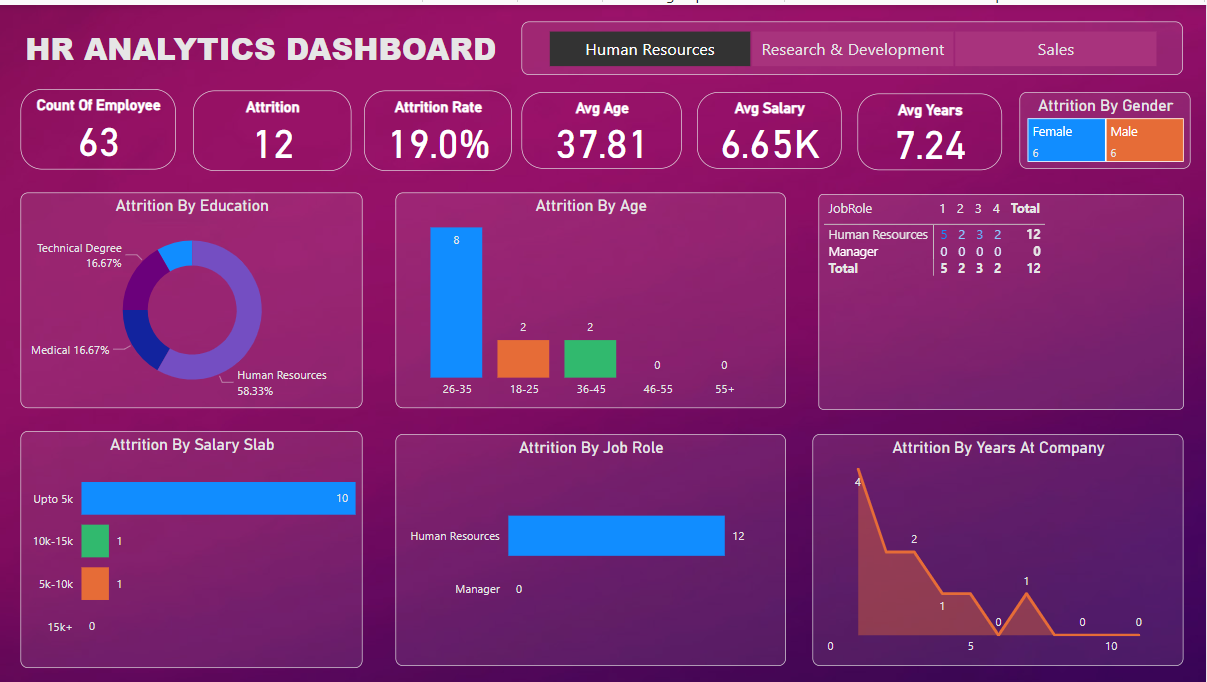

What the dashboard file says about the page in this screenshot:
{"tool":"powerbi","page":{"name":"Page 1","canvas":[1280,720],"ordinal":0},"visuals":[{"type":"card","title":"Count Of Employee","fields":{"Values":["CountNonNull(HR_Analytics.EmpID)"]},"box":[24.6,88.8,164.4,85],"z":0},{"type":"card","title":"Attrition Rate","fields":{"Values":["HR_Analytics.AttritionRate"]},"box":[387.4,90.7,156.9,85],"z":1000},{"type":"card","title":"Avg Age","fields":{"Values":["Avg(HR_Analytics.Age)"]},"box":[555.6,92.6,170.1,81.3],"z":2000},{"type":"card","title":"Attrition","fields":{"Values":["Sum(HR_Analytics.Attrition Count)"]},"box":[206,90.7,168.2,85],"z":3000},{"type":"card","title":"Avg Salary","fields":{"Values":["Avg(HR_Analytics.MonthlyIncome)"]},"box":[740.8,92.6,153.1,81.3],"z":4000},{"type":"card","title":"Avg Years","fields":{"Values":["Avg(HR_Analytics.YearsAtCompany)"]},"box":[910.9,94.5,153.1,81.3],"z":5000},{"type":"donutChart","title":"Attrition By Education","fields":{"Y":["Sum(HR_Analytics.Attrition Count)"],"Category":["HR_Analytics.EducationField"]},"box":[24.6,198.4,362.8,228.7],"z":6000},{"type":"columnChart","title":"Attrition By Age","fields":{"Category":["HR_Analytics.AgeGroup"],"Y":["Sum(HR_Analytics.Attrition Count)"]},"box":[421.4,198.4,413.9,228.7],"z":7000},{"type":"barChart","title":"Attrition By Salary Slab","fields":{"Category":["HR_Analytics.SalarySlab"],"Y":["Sum(HR_Analytics.Attrition Count)"]},"box":[24.6,451.7,362.8,251.3],"z":8000},{"type":"barChart","title":"Attrition By Job Role","fields":{"Y":["Sum(HR_Analytics.Attrition Count)"],"Category":["HR_Analytics.JobRole"]},"box":[421.4,455.4,413.9,245.7],"z":9000},{"type":"areaChart","title":"Attrition By Years At Company","fields":{"Category":["HR_Analytics.YearsAtCompany"],"Y":["Sum(HR_Analytics.Attrition Count)"]},"box":[863.6,455.4,393.1,245.7],"z":10000},{"type":"treemap","title":"Attrition By Gender","fields":{"Group":["HR_Analytics.Gender"],"Values":["Sum(HR_Analytics.Attrition Count)"]},"box":[1082.8,92.6,181.4,81.3],"z":11000},{"type":"slicer","fields":{"Values":["HR_Analytics.Department"]},"box":[555.6,17,701.1,56.7],"z":12000},{"type":"textbox","box":[24.6,17,531,56.7],"z":13000},{"type":"pivotTable","fields":{"Rows":["HR_Analytics.JobRole"],"Columns":["HR_Analytics.JobSatisfaction"],"Values":["Sum(HR_Analytics.Attrition Count)"]},"box":[870,201,387.4,228.7],"z":14000}]}

Visuals, with their boxes in screenshot pixels (x1, y1, x2, y2), scaled from the page's 1280x720 canvas onto the 1207x682 screenshot:
"Count Of Employee" card: <region>23, 84, 178, 165</region>
"Attrition Rate" card: <region>365, 86, 513, 166</region>
"Avg Age" card: <region>524, 88, 684, 165</region>
"Attrition" card: <region>194, 86, 353, 166</region>
"Avg Salary" card: <region>699, 88, 843, 165</region>
"Avg Years" card: <region>859, 90, 1003, 167</region>
"Attrition By Education" donutChart: <region>23, 188, 365, 405</region>
"Attrition By Age" columnChart: <region>397, 188, 788, 405</region>
"Attrition By Salary Slab" barChart: <region>23, 428, 365, 666</region>
"Attrition By Job Role" barChart: <region>397, 431, 788, 664</region>
"Attrition By Years At Company" areaChart: <region>814, 431, 1185, 664</region>
"Attrition By Gender" treemap: <region>1021, 88, 1192, 165</region>
slicer - HR_Analytics.Department: <region>524, 16, 1185, 70</region>
textbox: <region>23, 16, 524, 70</region>
pivotTable - HR_Analytics.JobRole x HR_Analytics.JobSatisfaction: <region>820, 190, 1186, 407</region>
